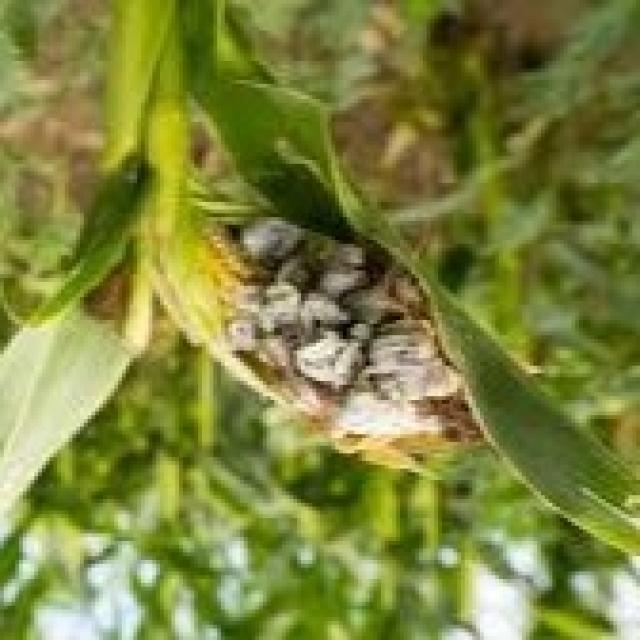Leaf_Scald: (134, 156, 516, 496)
